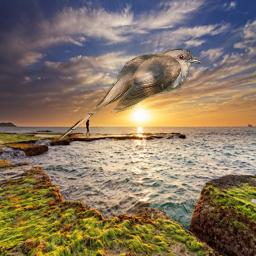Cuckoo: (58, 48, 203, 142)
